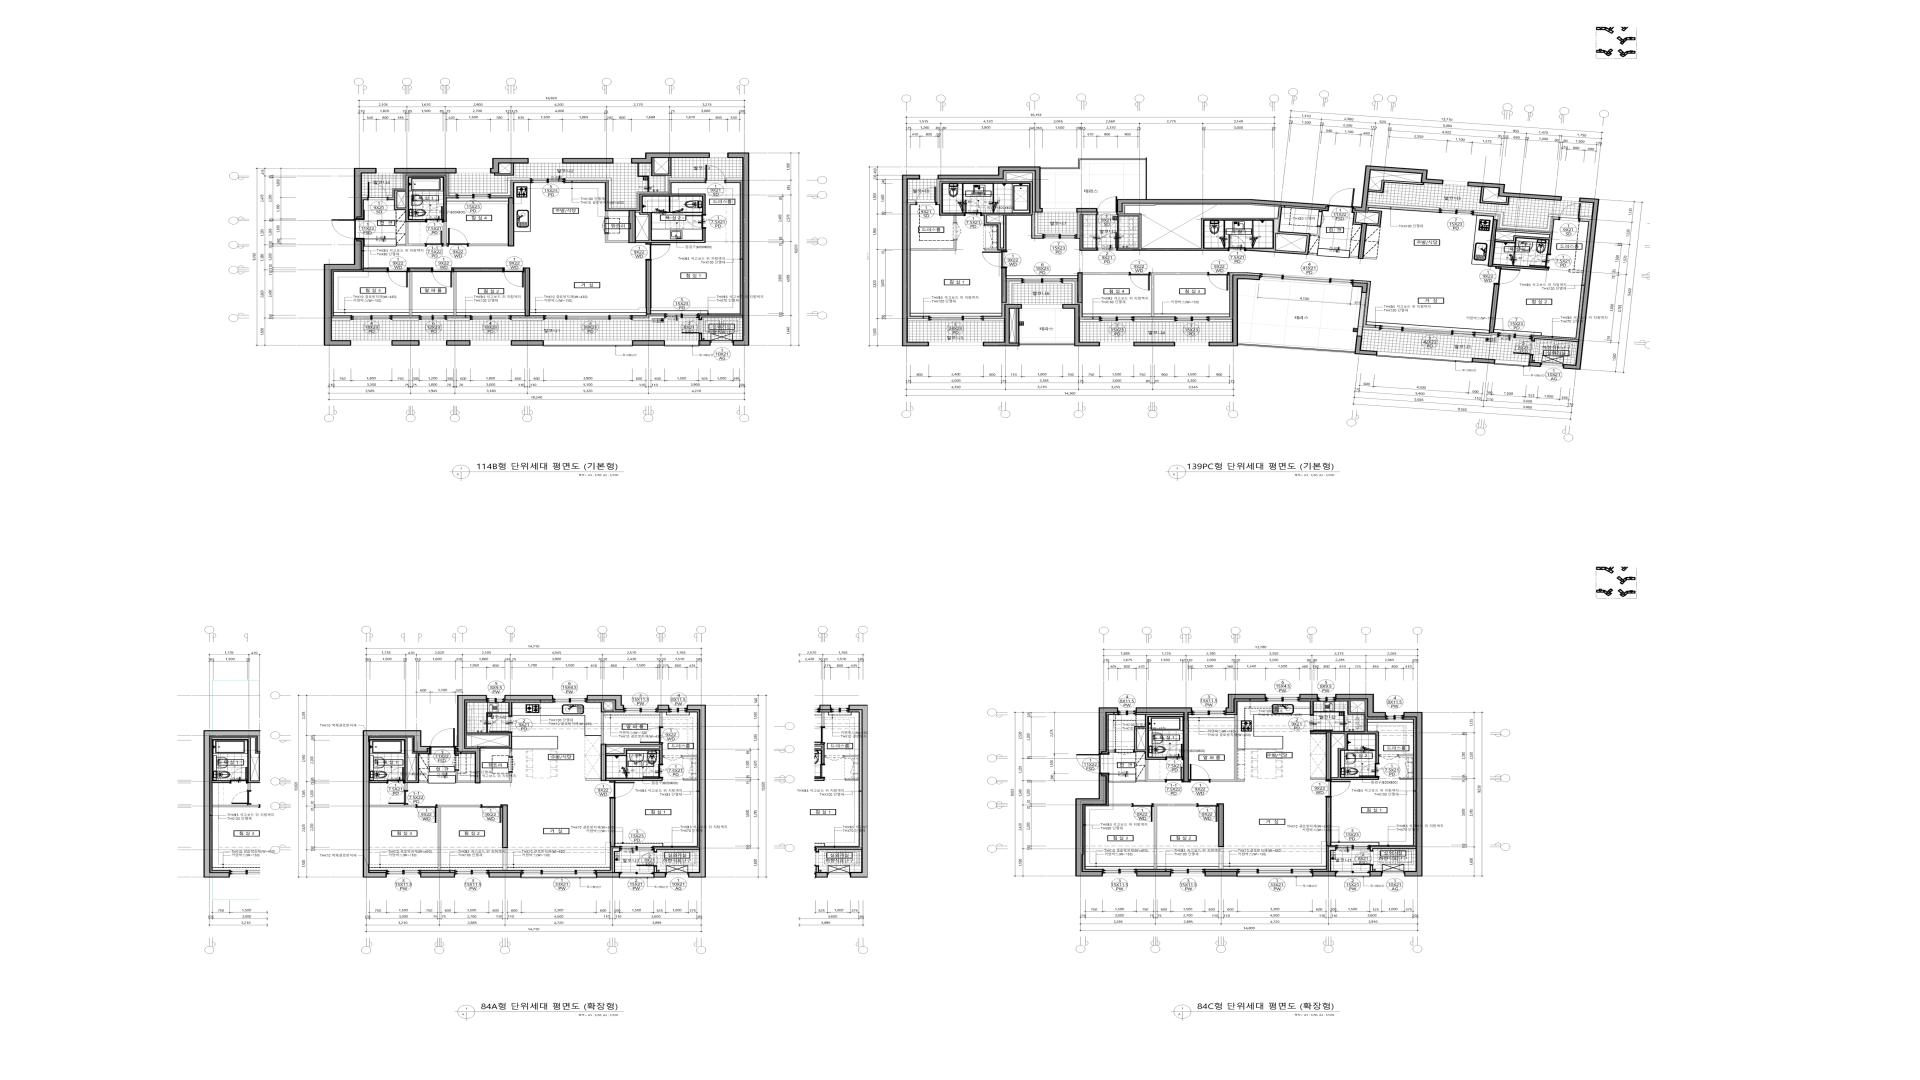door: (1328, 186, 1356, 214), (430, 728, 455, 754), (1076, 754, 1109, 774), (331, 219, 364, 239), (1325, 779, 1352, 798), (1494, 268, 1520, 286), (609, 781, 634, 799), (645, 243, 670, 261), (502, 268, 525, 287), (431, 268, 454, 287), (386, 268, 409, 287), (1559, 202, 1581, 222), (982, 251, 1007, 268), (415, 804, 438, 823), (1188, 764, 1211, 782), (1129, 272, 1151, 290), (640, 727, 663, 744), (489, 716, 513, 733), (1197, 803, 1218, 822), (481, 804, 502, 823), (1133, 803, 1154, 822), (447, 228, 468, 247), (367, 182, 388, 200), (915, 187, 936, 206), (1208, 272, 1229, 290), (1309, 715, 1333, 731), (705, 165, 725, 183), (1097, 196, 1117, 215), (1097, 232, 1117, 251), (1530, 252, 1552, 268), (1513, 340, 1535, 356), (964, 199, 982, 216), (1228, 235, 1246, 252), (1353, 851, 1374, 865), (642, 764, 663, 778), (388, 790, 409, 804), (682, 319, 703, 334), (1166, 766, 1183, 783), (1166, 744, 1183, 761), (426, 206, 443, 223), (686, 215, 707, 228), (386, 767, 404, 783), (426, 231, 443, 247), (1360, 764, 1379, 777), (953, 223, 961, 240), (601, 218, 609, 233), (1379, 754, 1399, 760), (1114, 749, 1134, 754), (509, 757, 516, 773), (663, 756, 682, 761)
wall: (363, 731, 430, 878), (1117, 207, 1320, 256), (939, 181, 1033, 251), (1563, 198, 1600, 371), (938, 166, 1043, 212), (902, 175, 930, 347), (1040, 158, 1147, 199), (1353, 165, 1444, 212), (1135, 707, 1192, 782), (323, 239, 361, 345), (728, 153, 749, 345), (394, 175, 447, 247), (1209, 274, 1261, 347), (636, 194, 705, 243), (1134, 715, 1183, 782), (1403, 712, 1423, 877), (1075, 774, 1106, 877), (687, 704, 705, 878), (369, 737, 427, 790), (1332, 719, 1379, 779), (1154, 804, 1197, 869), (455, 695, 487, 783), (438, 804, 480, 870), (1117, 199, 1328, 212), (1151, 273, 1208, 316), (1211, 715, 1245, 782), (1017, 309, 1075, 345), (1474, 210, 1560, 232), (651, 158, 705, 193), (1468, 182, 1563, 200), (982, 305, 1022, 347), (1063, 305, 1100, 347), (564, 178, 612, 208), (1495, 229, 1553, 253), (1238, 343, 1356, 353), (1336, 694, 1386, 717), (353, 167, 376, 219), (607, 744, 663, 764), (467, 733, 512, 757), (1357, 293, 1379, 336), (1098, 707, 1118, 754), (630, 153, 709, 164), (1225, 694, 1266, 713), (1369, 179, 1424, 193), (491, 178, 530, 195), (1080, 214, 1097, 251), (587, 695, 624, 711), (489, 158, 529, 173), (1367, 203, 1440, 211), (1480, 187, 1510, 206), (1487, 216, 1498, 266), (1489, 285, 1499, 334), (601, 702, 613, 744), (910, 240, 956, 251), (1356, 336, 1378, 356), (394, 167, 456, 174), (1493, 264, 1549, 270), (480, 773, 512, 783), (1358, 223, 1367, 258), (508, 198, 514, 247), (1325, 732, 1332, 779), (1325, 798, 1332, 845), (609, 799, 616, 847), (1063, 281, 1076, 305), (1009, 281, 1022, 305), (1532, 336, 1578, 343), (646, 261, 651, 315), (562, 158, 613, 164), (455, 770, 475, 783), (525, 268, 530, 316), (505, 695, 553, 700), (1367, 210, 1382, 227), (600, 744, 607, 781), (495, 164, 514, 175), (1001, 268, 1007, 303), (502, 804, 508, 848), (1218, 803, 1224, 847), (1348, 702, 1365, 715), (421, 872, 455, 878), (488, 872, 521, 878), (1134, 342, 1175, 347), (629, 211, 636, 243), (605, 233, 628, 243), (1328, 847, 1336, 872), (454, 268, 502, 272), (612, 848, 620, 872), (1035, 212, 1043, 236), (1370, 847, 1416, 851), (1137, 872, 1171, 877), (409, 272, 413, 316), (654, 848, 699, 852), (632, 340, 665, 345), (510, 340, 543, 345), (1205, 872, 1238, 877), (699, 315, 742, 319), (1353, 282, 1369, 293), (1077, 273, 1083, 303), (596, 872, 620, 878), (1472, 357, 1495, 364), (392, 340, 419, 345), (607, 778, 662, 781), (446, 340, 471, 345), (633, 316, 665, 320), (1312, 872, 1336, 877), (369, 804, 415, 807), (1083, 273, 1129, 276), (1353, 212, 1362, 225), (454, 272, 456, 316), (502, 848, 508, 870), (1218, 847, 1224, 869), (1134, 319, 1175, 322), (468, 244, 508, 247), (1299, 694, 1317, 699), (363, 268, 386, 272), (409, 268, 431, 272), (1476, 335, 1498, 339), (512, 318, 543, 320), (1076, 208, 1097, 212), (654, 872, 666, 878), (392, 318, 419, 320), (658, 704, 669, 711), (1528, 361, 1542, 367), (1370, 872, 1382, 877), (699, 340, 711, 345), (447, 318, 469, 320), (1209, 319, 1232, 322), (907, 319, 928, 322), (984, 319, 1004, 322), (1080, 319, 1100, 322), (332, 318, 351, 320), (1580, 216, 1592, 220), (725, 178, 742, 181), (369, 781, 386, 783), (514, 244, 530, 247), (1311, 732, 1325, 735), (659, 712, 662, 727), (509, 702, 512, 716), (1311, 700, 1313, 715), (1364, 257, 1377, 260), (1109, 804, 1133, 806), (1530, 355, 1534, 363), (699, 334, 703, 340), (909, 199, 915, 203), (1349, 256, 1358, 258), (1109, 749, 1114, 753), (682, 756, 698, 757), (1399, 754, 1414, 756), (1311, 778, 1325, 779), (1399, 778, 1414, 779), (683, 779, 698, 781), (585, 779, 600, 781), (450, 193, 456, 195), (605, 211, 608, 218), (1370, 865, 1373, 872), (953, 216, 956, 223), (361, 195, 367, 198), (388, 195, 393, 198), (654, 866, 657, 872)
window: (1261, 273, 1353, 286), (1379, 326, 1476, 338), (1377, 352, 1472, 363), (521, 870, 596, 878), (1238, 869, 1312, 877), (545, 340, 632, 347), (543, 315, 633, 320), (928, 315, 984, 322), (1439, 207, 1474, 216), (553, 695, 587, 703), (1498, 332, 1532, 340), (1192, 708, 1225, 716), (665, 340, 699, 347), (1102, 869, 1137, 876), (1336, 870, 1370, 877), (386, 870, 421, 877), (624, 705, 658, 712), (620, 872, 654, 878), (469, 315, 512, 320), (1171, 869, 1204, 876), (1266, 695, 1299, 702), (455, 870, 488, 877), (1495, 360, 1528, 367), (1022, 278, 1063, 284), (351, 340, 392, 345), (351, 315, 392, 320), (456, 194, 491, 199), (530, 178, 564, 183), (620, 845, 654, 851), (1175, 316, 1209, 322), (1100, 316, 1134, 322), (1043, 233, 1077, 239), (529, 158, 562, 164), (1022, 305, 1062, 309), (471, 342, 510, 345), (419, 315, 447, 320), (487, 695, 505, 703), (930, 343, 982, 345), (665, 314, 699, 318), (1118, 708, 1135, 716), (1336, 845, 1370, 849), (1443, 181, 1468, 186), (456, 169, 489, 173), (1100, 342, 1133, 345), (1043, 208, 1076, 212), (1317, 695, 1336, 702), (669, 705, 687, 712), (1382, 870, 1404, 876), (711, 340, 733, 345), (1542, 363, 1564, 368), (419, 342, 446, 345), (1561, 196, 1580, 202), (709, 153, 727, 158), (613, 158, 630, 164), (1386, 715, 1403, 720), (666, 873, 688, 877), (1175, 343, 1208, 345), (920, 175, 938, 179), (377, 169, 394, 173)
